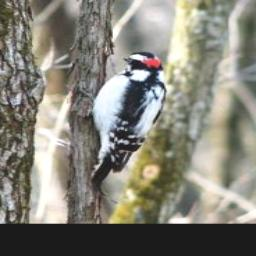Woodpecker: (79, 52, 171, 194)
